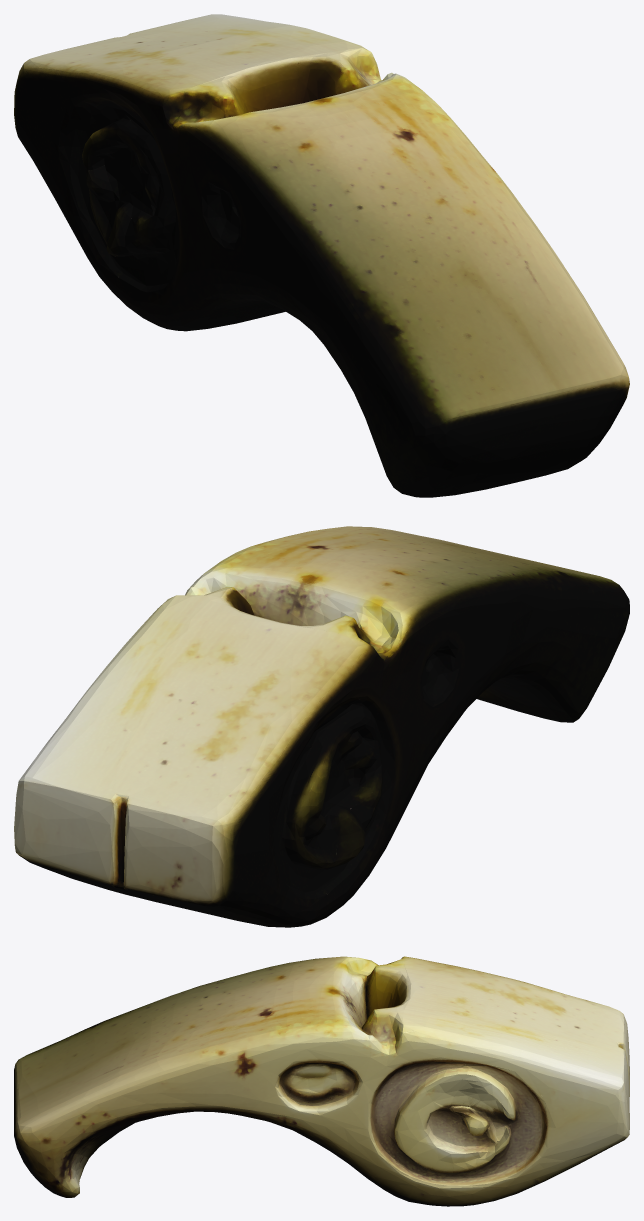
Rendered from bone-whistle-vintage.jpeg.glb.
3 renders of one model, top to bottom at view 1: azimuth 30°, elevation 25°; view 2: azimuth 150°, elevation 25°; view 3: azimuth 270°, elevation 25°, orthographic. The views are drawn at different scales.
Parts seen in each view (by area): view 1: world; view 2: world; view 3: world.
Boxes of the visible parts, <box> form: world: <box>14,14,629,497</box>; world: <box>14,526,629,927</box>; world: <box>14,956,629,1206</box>.
Size of the model in its own units: 0.3451 by 0.3354 by 1.
Materials: 1 (1 with a texture image).
